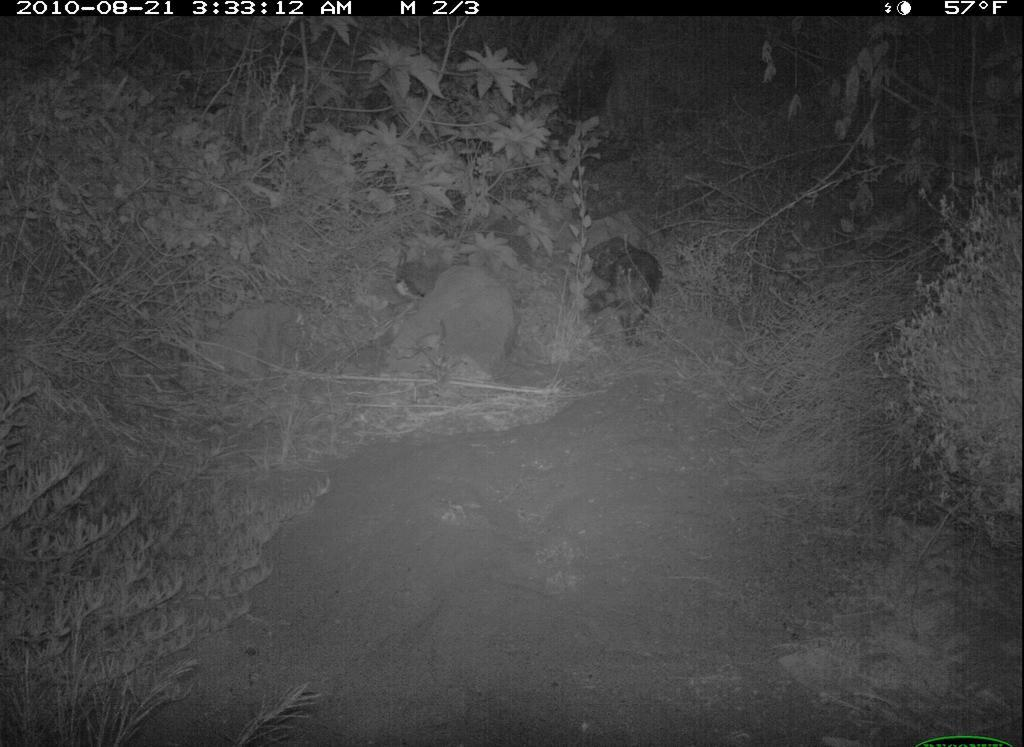raccoon: (584, 216, 667, 360)
